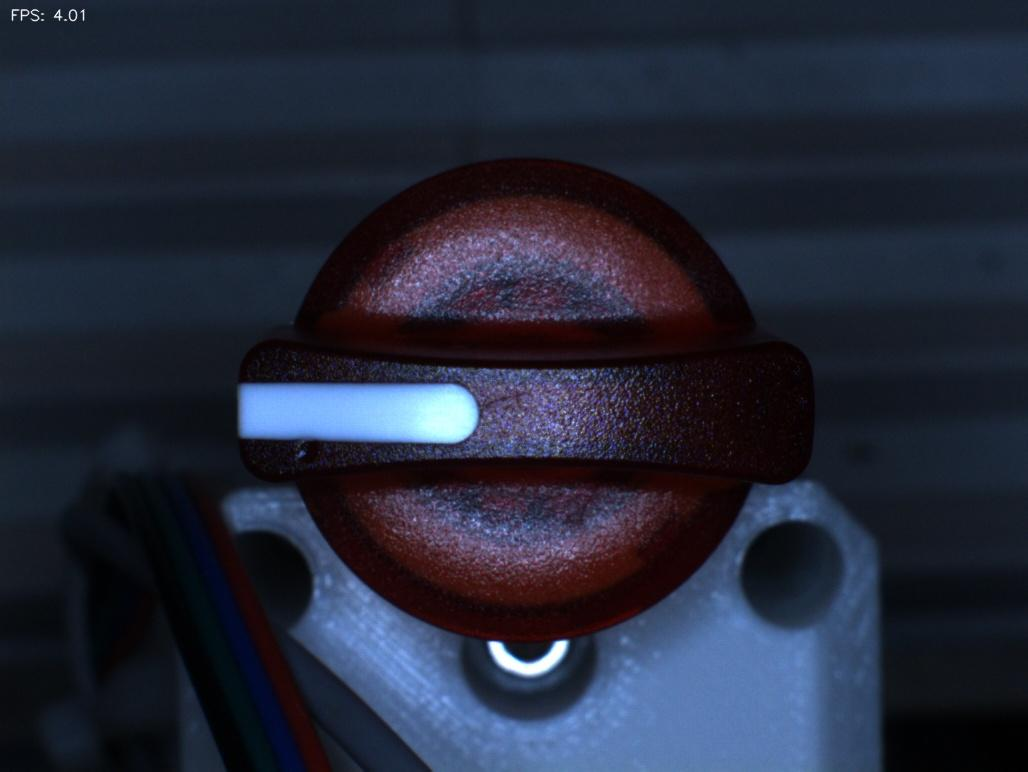Choc: (269, 416, 353, 504)
